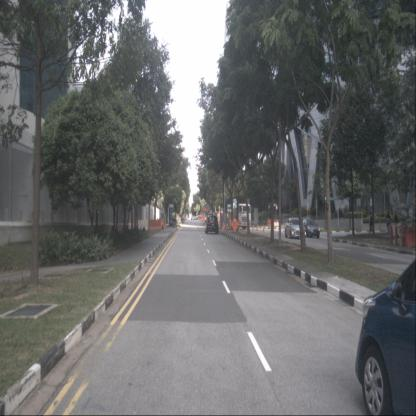human-pedestrian-adult: (369, 211, 373, 233), (386, 211, 390, 233), (394, 210, 398, 230), (370, 196, 373, 213)
movable_object-barrier: (140, 219, 149, 229), (150, 220, 157, 229), (156, 220, 161, 229)
vehicle-car: (354, 257, 416, 416), (284, 217, 304, 239), (302, 218, 320, 238), (205, 215, 219, 234)
